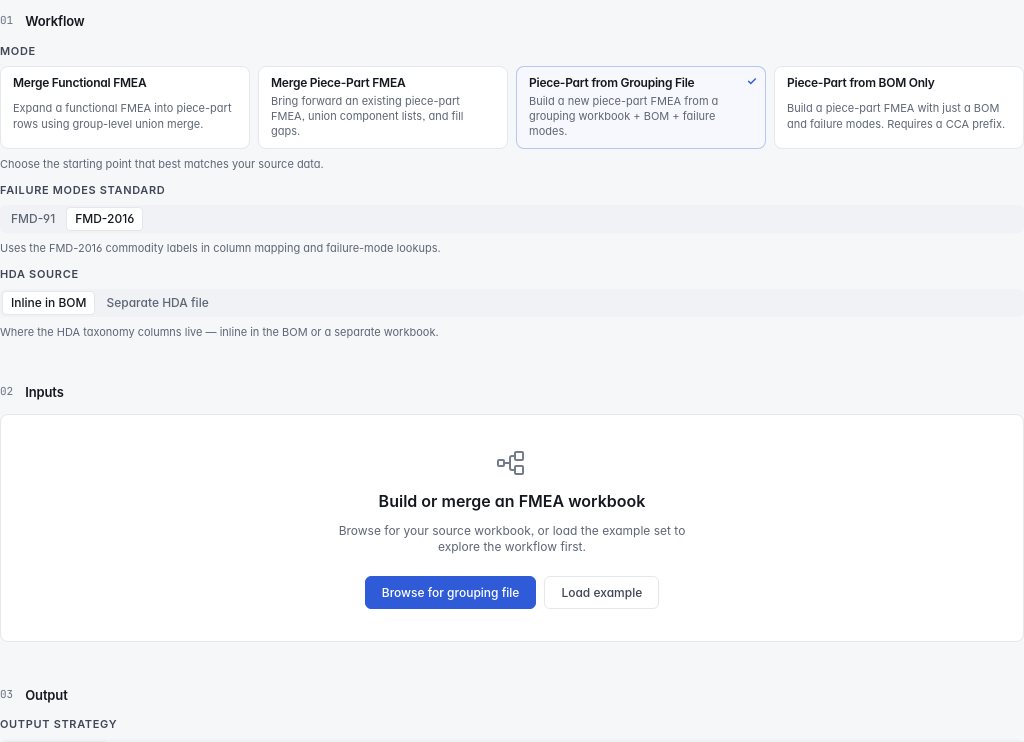
Test case: FmeaTool inspection flow › shows a warning note when selected-sheet inspection is capped
Click the button "Merge Functional FMEA". click: point(125, 107)
box: [0,66,250,149]
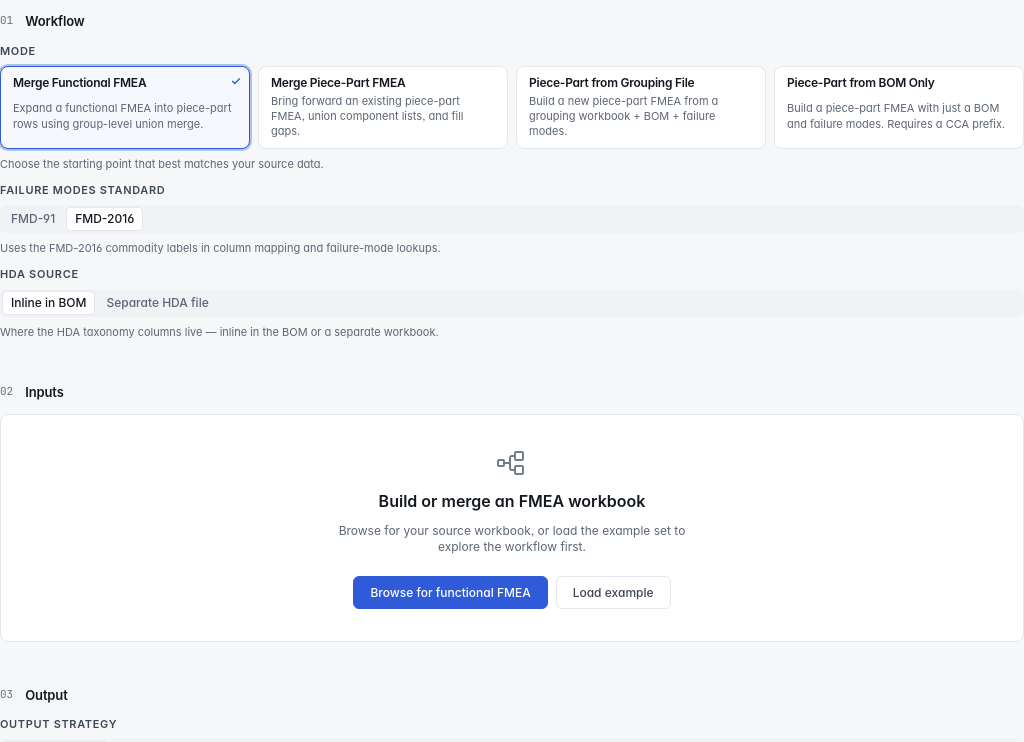
# Enter through the onboarding EmptyState's mode-aware browse.
Click the button "Browse for functional FMEA". click: point(451, 592)
box: [354,576,548,608]
(page scrolled)
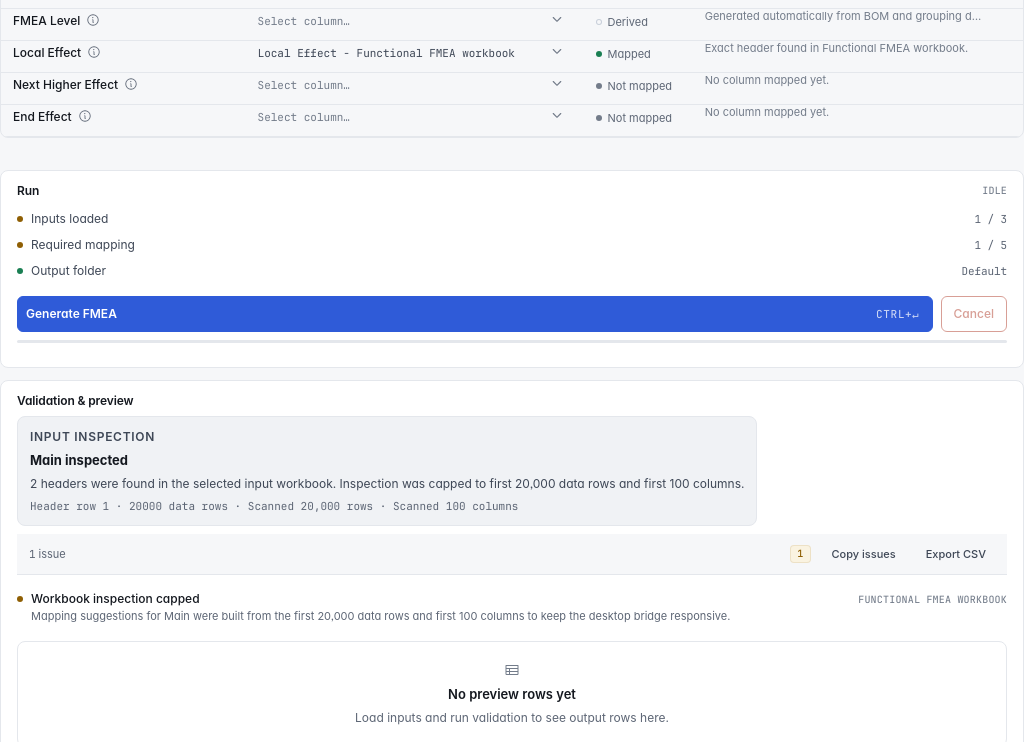
Check: the text "Workbook inspection capped" is shown, box [31,591,200,606]
Check: the text "first 20,000 data rows and first 100 columns" is shown, box [30,476,744,491]
Check: the text "Scanned 100 columns" is shown, box [30,499,518,513]
